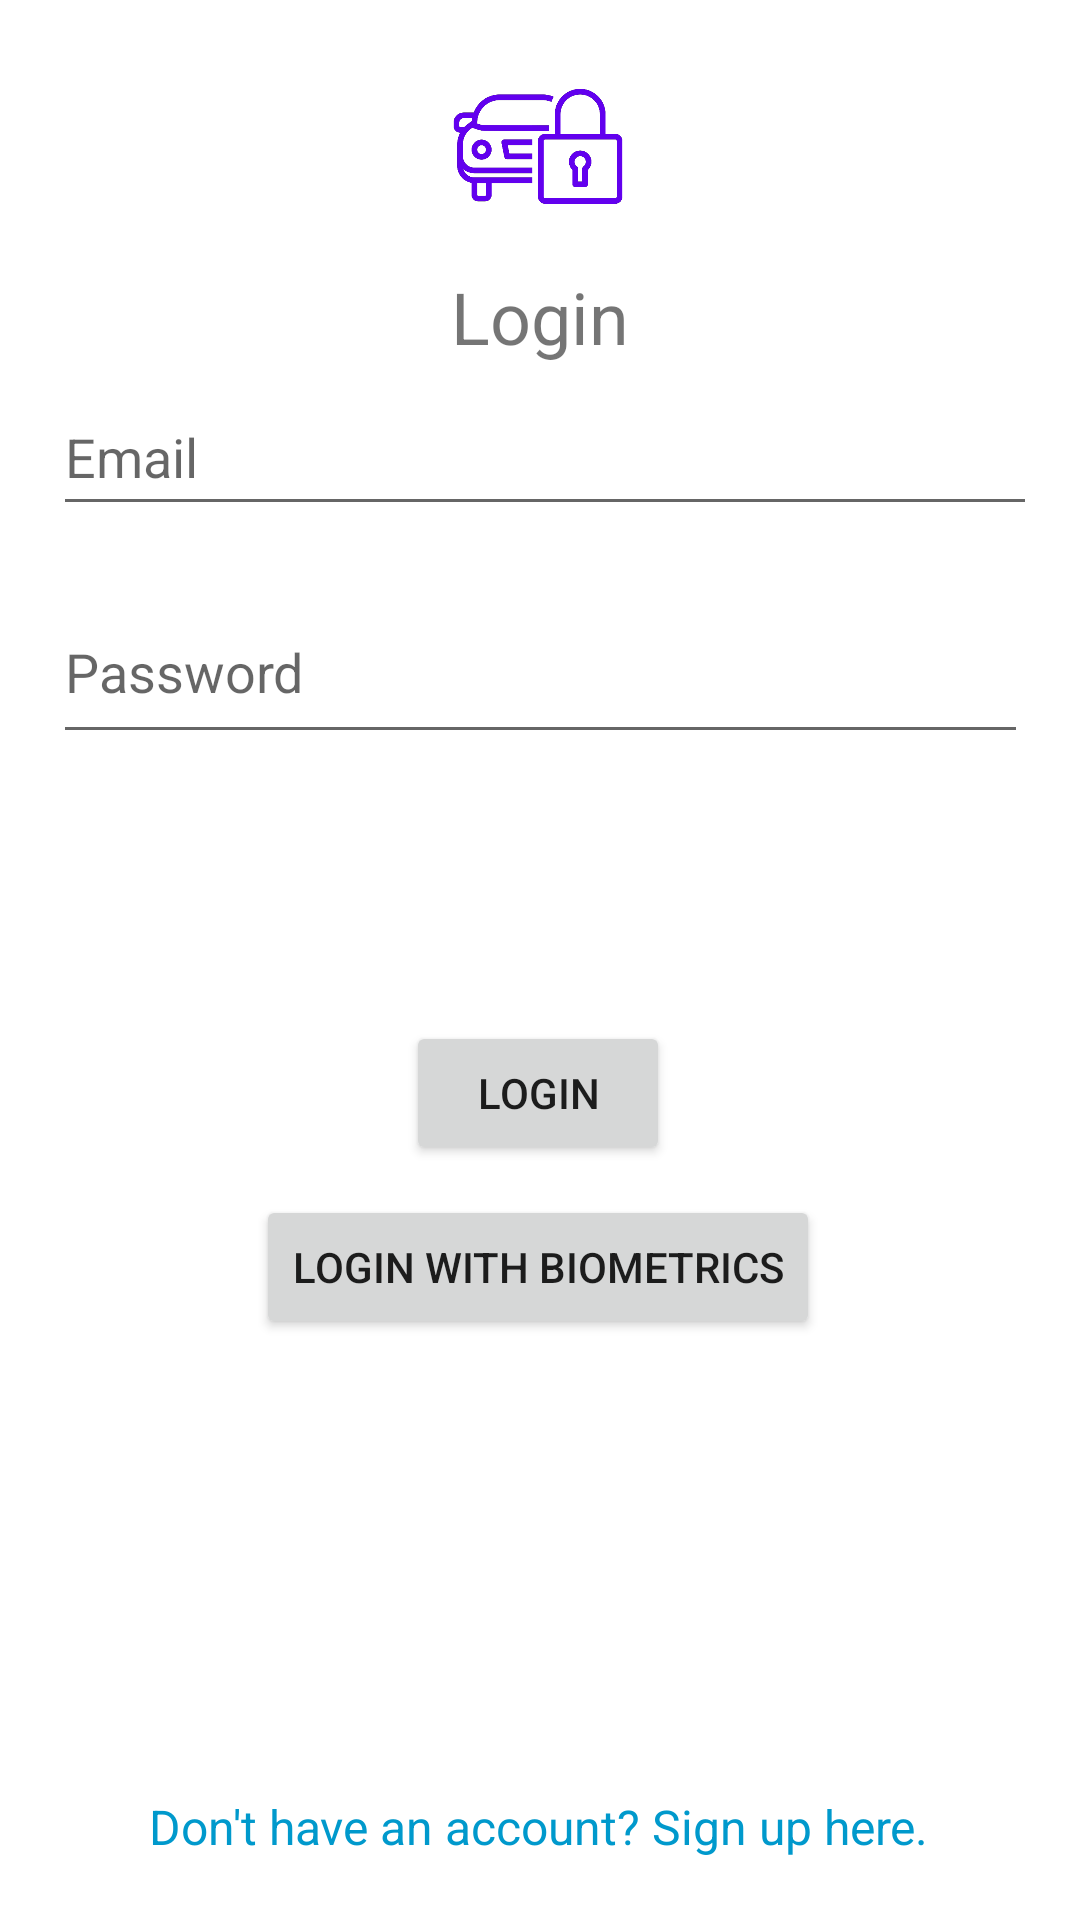

Locate icon controls on the screen. Image size 1080x1920, boxes as (x1, y1, x2, y2).
carsec: (453, 89, 623, 204)
